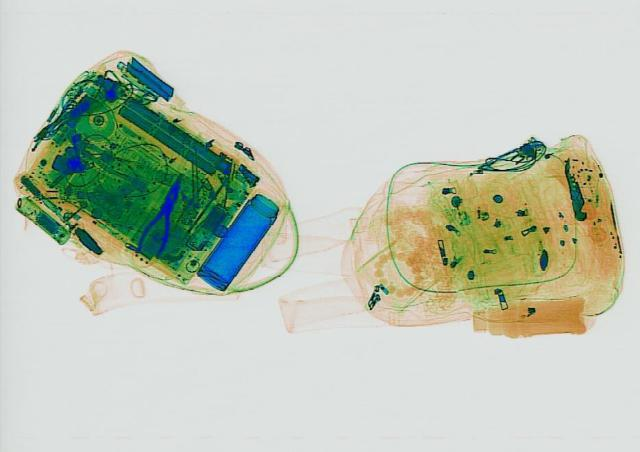Pliers: (131, 169, 191, 257)
